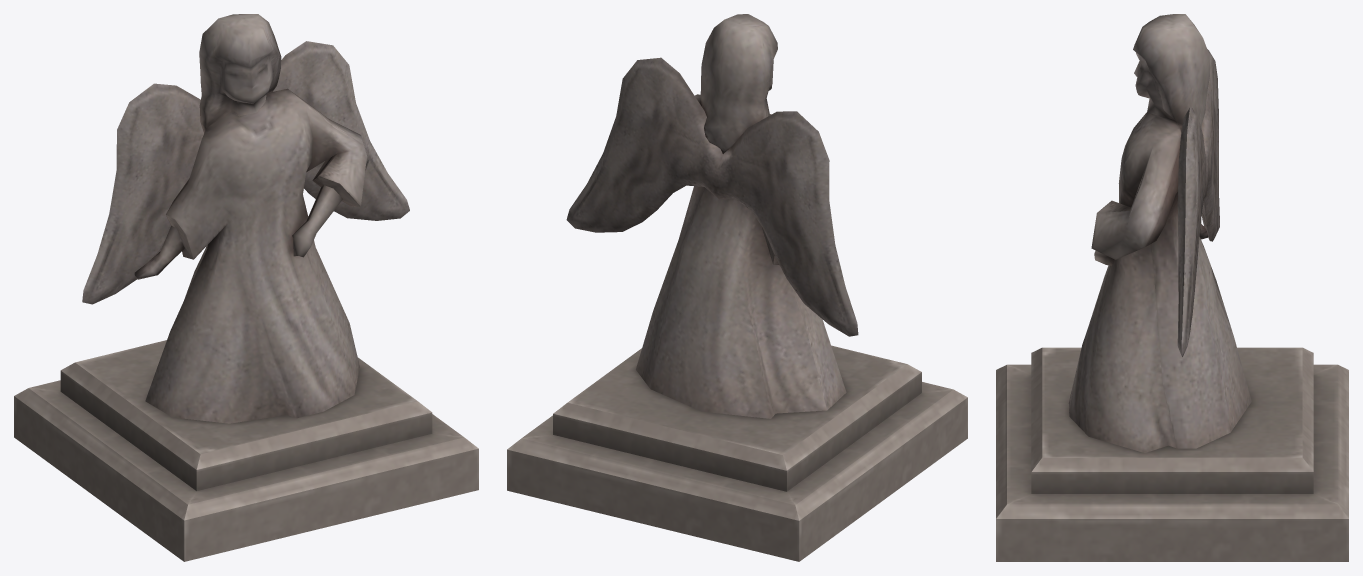
The model's file is GoddessStatues_R.fbx.
The picture shows the model from 3 angles, left to right: view 1: azimuth 30°, elevation 25°; view 2: azimuth 150°, elevation 25°; view 3: azimuth 270°, elevation 25°; orthographic projection. The views are drawn at different scales.
Parts seen in each view (by area): view 1: GoddessStatues_R; view 2: GoddessStatues_R; view 3: GoddessStatues_R.
Part boxes in pixels (box(x1,y1,x2,y2)): GoddessStatues_R: box(14, 14, 478, 561); GoddessStatues_R: box(507, 14, 967, 561); GoddessStatues_R: box(996, 14, 1348, 561).
Size of the model in its own units: 2.14 by 2.89 by 2.
